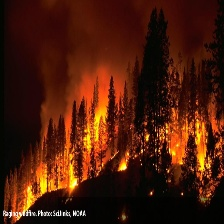fire: (169, 146, 211, 169), (17, 179, 49, 207), (59, 170, 81, 192), (84, 112, 101, 137), (114, 160, 133, 172), (119, 211, 133, 223)
smoke: (19, 4, 218, 90)
